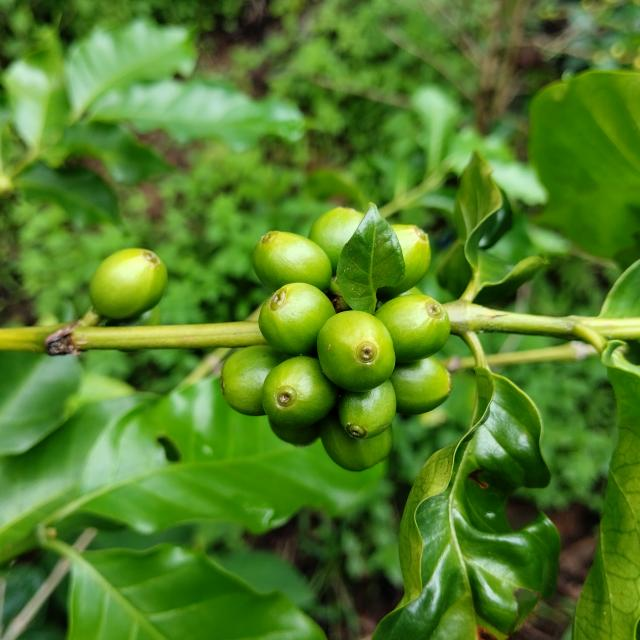green: (317, 310, 396, 393), (259, 282, 336, 356), (262, 356, 339, 428), (89, 248, 167, 319), (375, 294, 451, 363), (220, 345, 291, 416), (252, 231, 332, 291), (319, 410, 393, 472), (378, 224, 431, 299), (389, 356, 452, 415), (309, 207, 364, 272), (337, 380, 397, 439), (269, 420, 319, 447)
